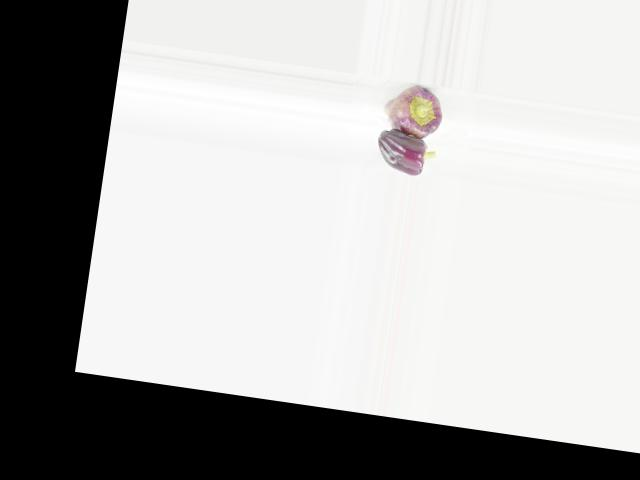bell_pepper: (370, 78, 457, 143)
